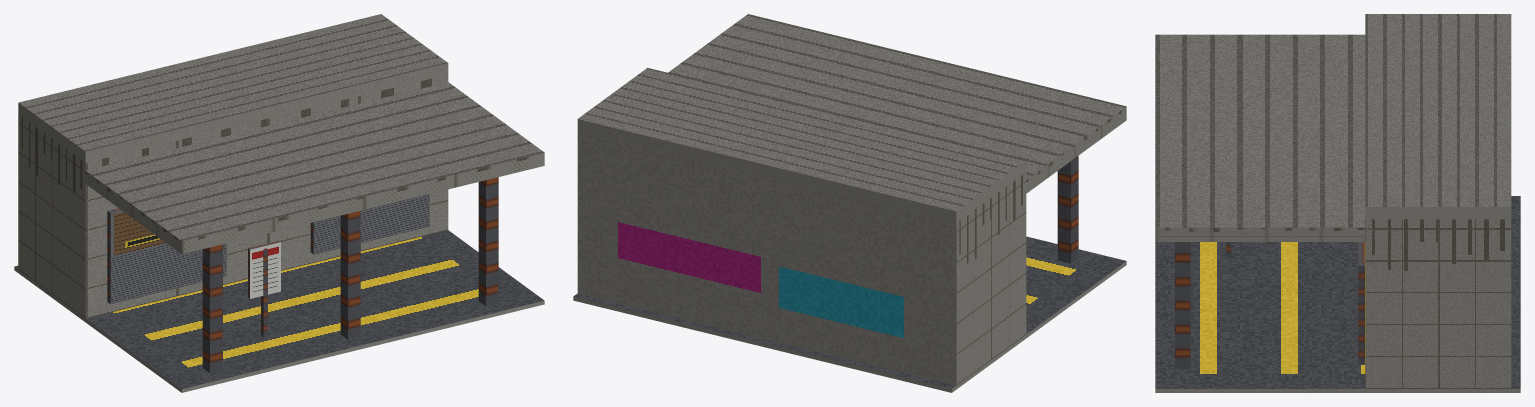
The model's file is building_bus_station_01.glb.
3 views of the same model, side by side, from view 1: azimuth 30°, elevation 25°; view 2: azimuth 150°, elevation 25°; view 3: azimuth 270°, elevation 25° (orthographic). The views are drawn at different scales.
Parts seen in each view (by area): view 1: Building_Bus_Station_01; view 2: Building_Bus_Station_01; view 3: Building_Bus_Station_01.
Part boxes in pixels (x1,y1,x2,y2): Building_Bus_Station_01: (14, 14, 544, 392); Building_Bus_Station_01: (573, 14, 1126, 392); Building_Bus_Station_01: (1155, 14, 1520, 392).
Size of the model in its own units: 10 by 4.5 by 8.
Materials: 1 (1 with a texture image).
